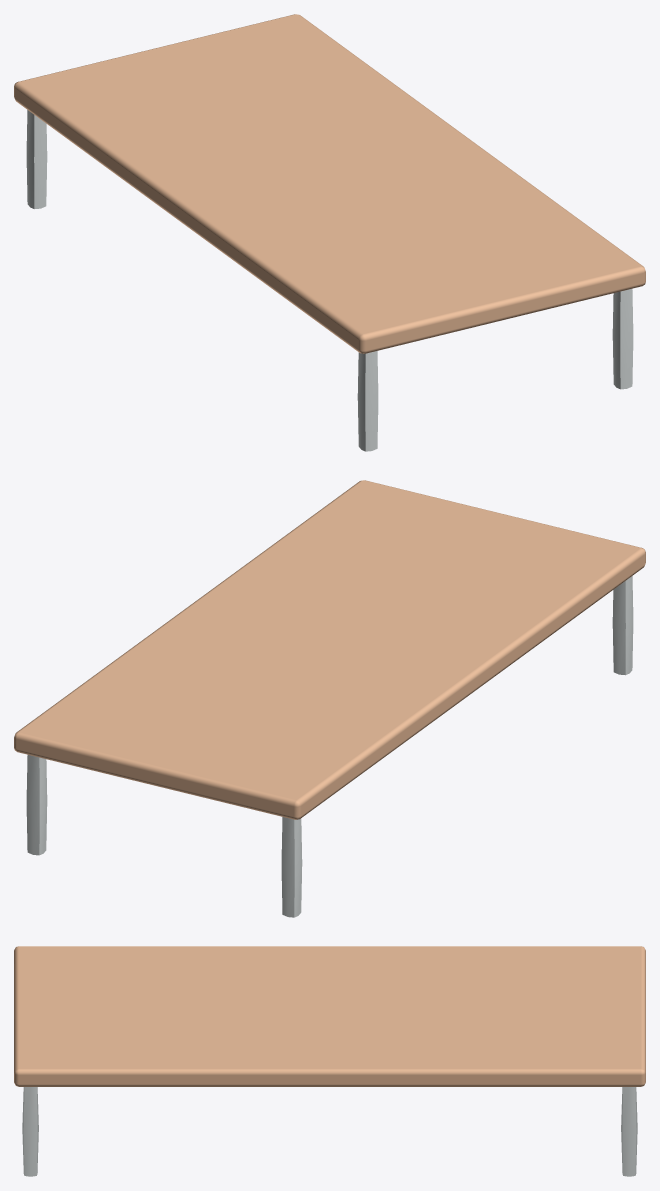
The model's file is desk-wing.glb.
3 views of the same model, one above another, from view 1: azimuth 30°, elevation 25°; view 2: azimuth 150°, elevation 25°; view 3: azimuth 270°, elevation 25° (orthographic). The views are drawn at different scales.
Visible parts, largest first — view 1: part (×4); view 2: part (×4); view 3: part (×3).
Part boxes in pixels (x1=…): part (×4): x1=14, y1=14, x2=645, y2=451; part (×4): x1=14, y1=480, x2=645, y2=917; part (×3): x1=14, y1=946, x2=645, y2=1176.
Bounding box in the file's own units: 1.8 × 0.74 × 3.8.
1 material, 1 textured.
